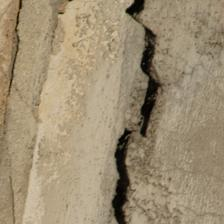Crack: (54, 1, 113, 223)
